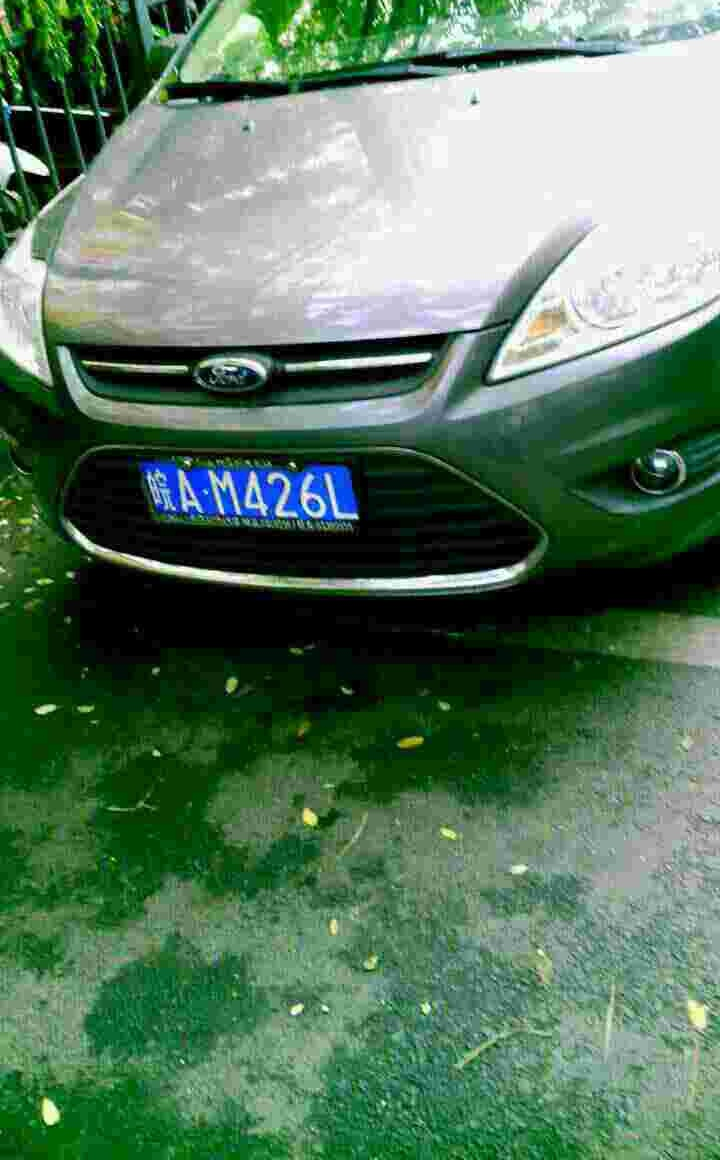license_plate: (152, 461, 353, 520)
